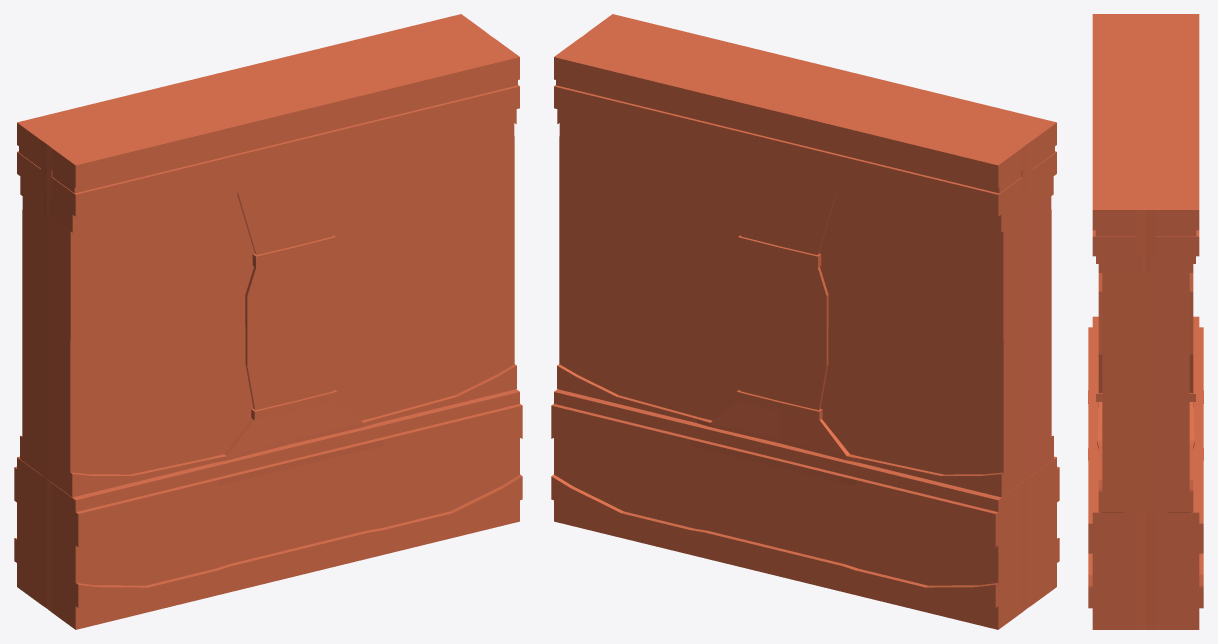
File: MurSeul.fbx
3 views of the same model, side by side, from view 1: azimuth 30°, elevation 25°; view 2: azimuth 150°, elevation 25°; view 3: azimuth 270°, elevation 25° (orthographic). The views are drawn at different scales.
Parts seen in each view (by area): view 1: Mur_Plein; view 2: Mur_Plein; view 3: Mur_Plein.
Boxes of the visible parts, box(x1,y1,x2,y2) form: Mur_Plein: box(14, 14, 522, 629); Mur_Plein: box(551, 14, 1059, 629); Mur_Plein: box(1088, 14, 1203, 629).
Size of the model in its own units: 200 by 200 by 50.
